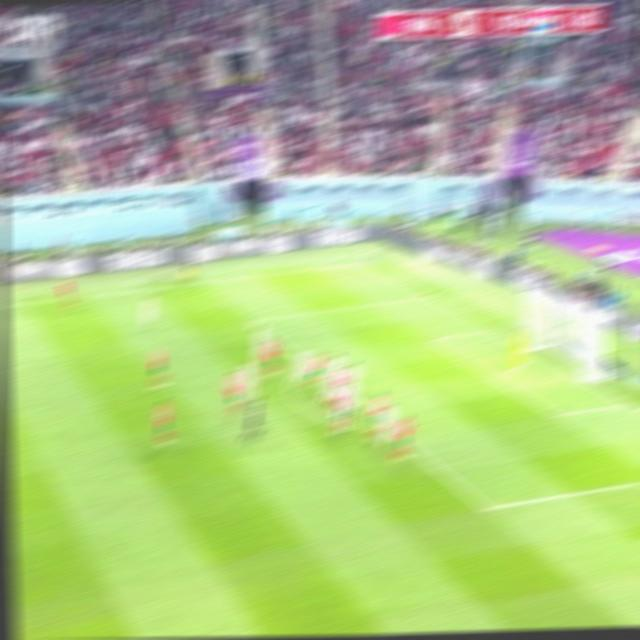bigarea_bottom_inner: (476, 497, 497, 519)
bigarea_top_inner: (247, 315, 261, 326)
bigarea_top_outter: (422, 290, 436, 299)
bottom_arc_area_intersection: (378, 418, 397, 437)
corner: (359, 260, 373, 265)
smallarea_bottom_inner: (548, 406, 565, 421)
smallarea_bottom_outter: (621, 396, 636, 409)
smallarea_top_inner: (426, 332, 441, 343)
smallarea_top_outter: (483, 324, 498, 333)
top_arc_area_intersection: (295, 358, 321, 374)
